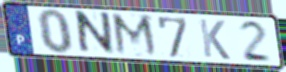0: (33, 8, 76, 55)
2: (236, 21, 272, 63)
7: (156, 15, 189, 59)
K: (197, 17, 233, 61)
M: (110, 12, 162, 59)
N: (76, 9, 117, 57)
